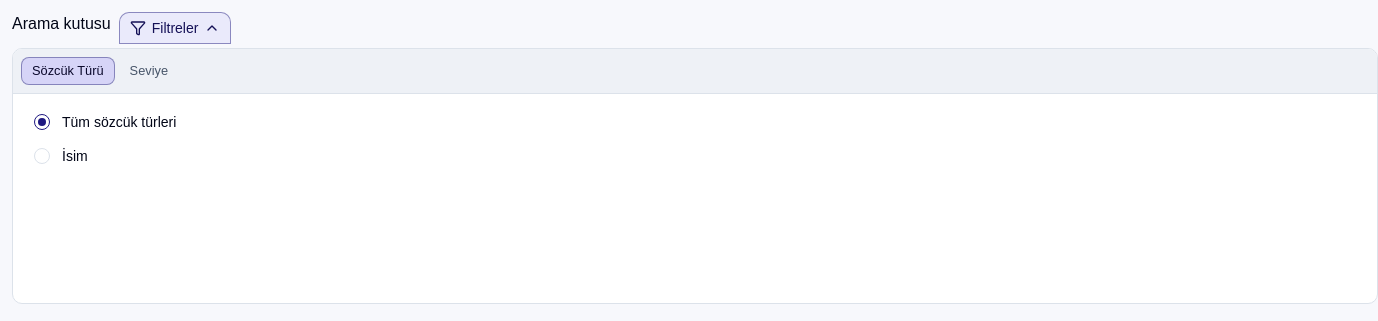
it: CompactWordFilterPanel › shows the active field's options and switches when another field tab is clicked
The width and height of the screenshot is (1378, 321).
Expected: the text "İsim" is shown, x1=62 y1=146 x2=88 y2=166
Expected: the text "A1" is not shown
Click the button "Seviye": (149, 71) x1=119 y1=57 x2=179 y2=85
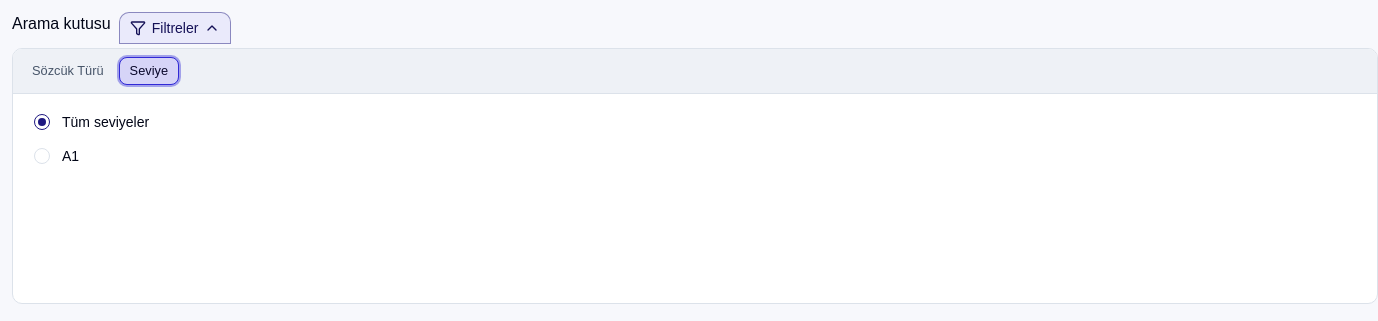
Now the text "A1" is shown, box x1=62 y1=146 x2=79 y2=166
Now the text "İsim" is gone
